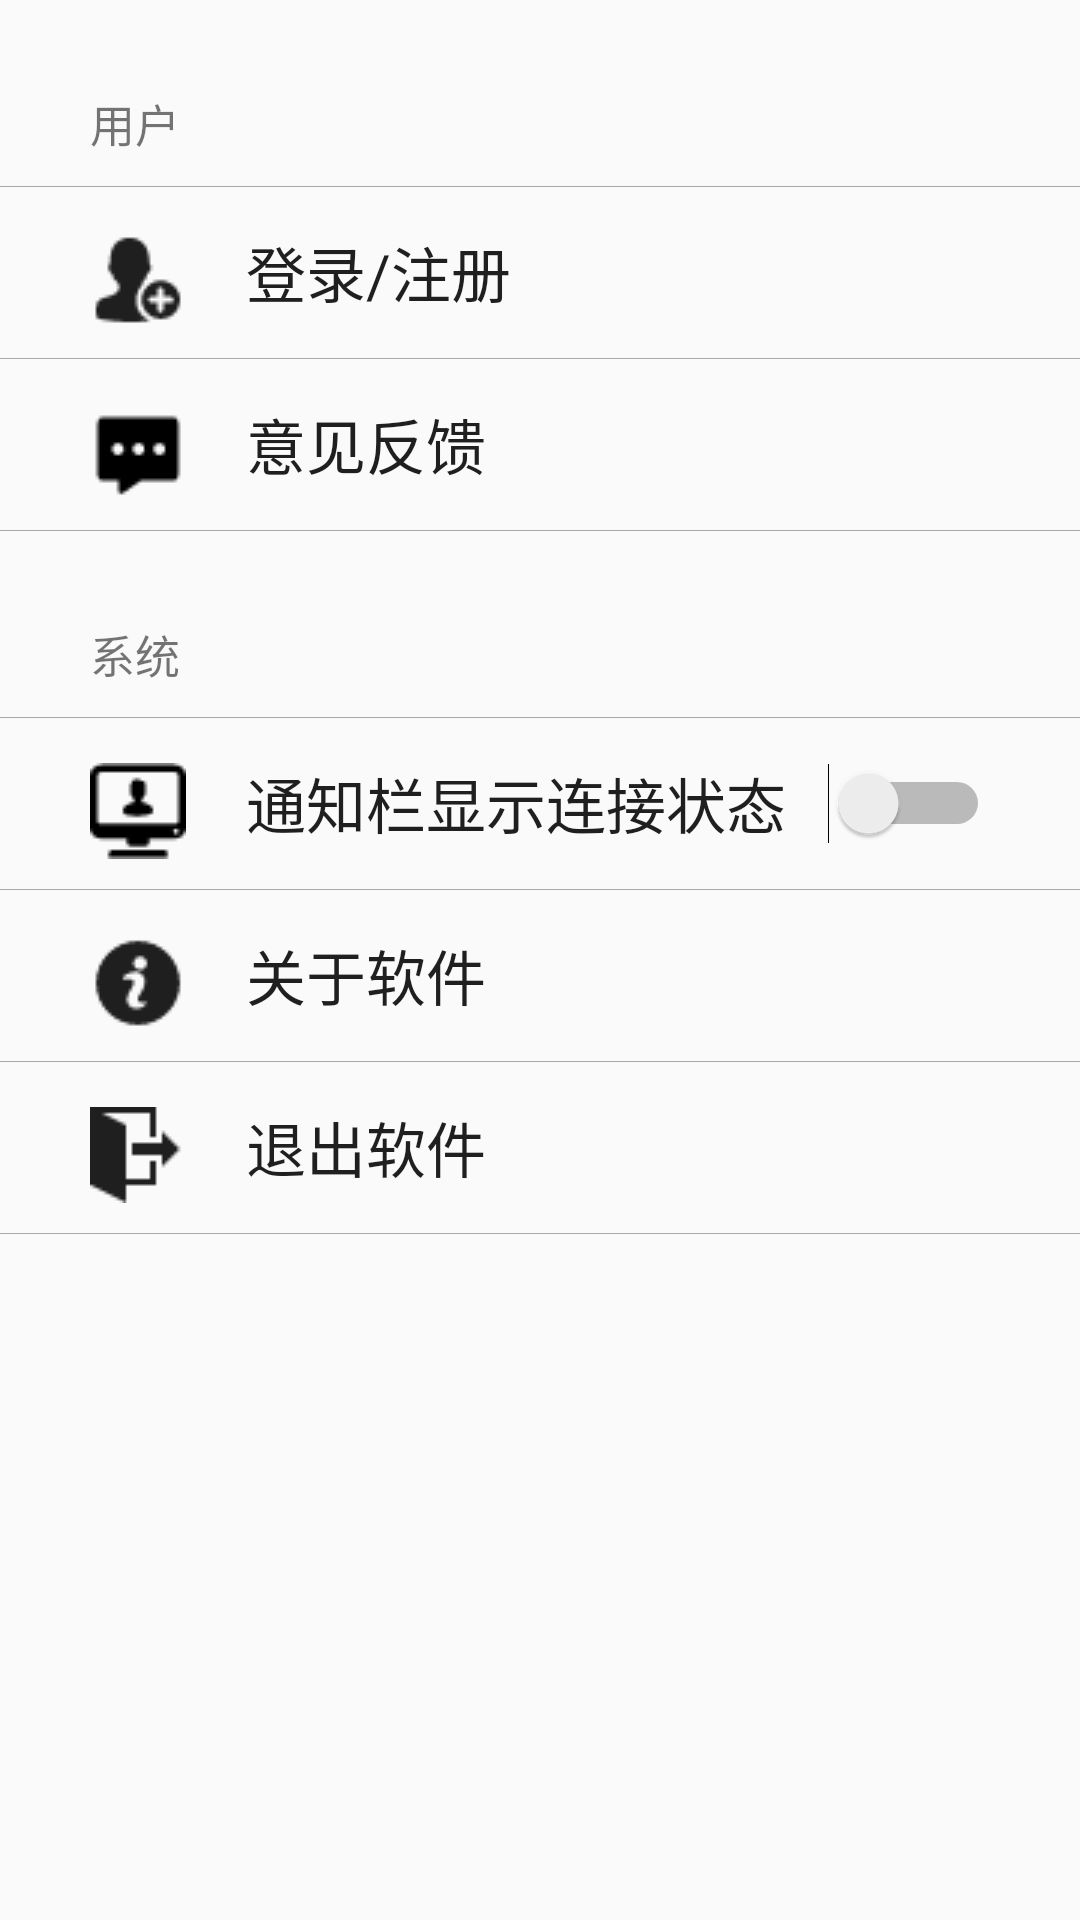

Named icons in this screenshot (1080×1920) and their bounding boxes, rect(x1, y1, x2, y2):
exit: rect(90, 1107, 181, 1203)
feedback: rect(95, 415, 181, 495)
info: rect(95, 940, 181, 1026)
login: rect(95, 237, 181, 323)
